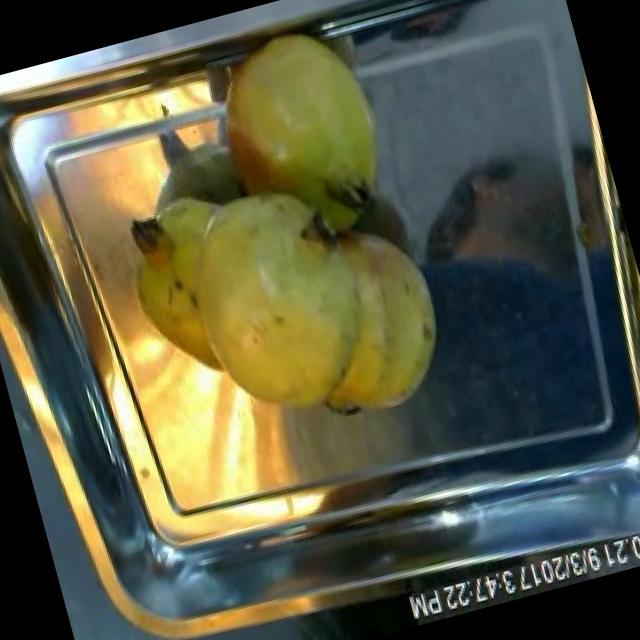fruit: (190, 192, 472, 463)
